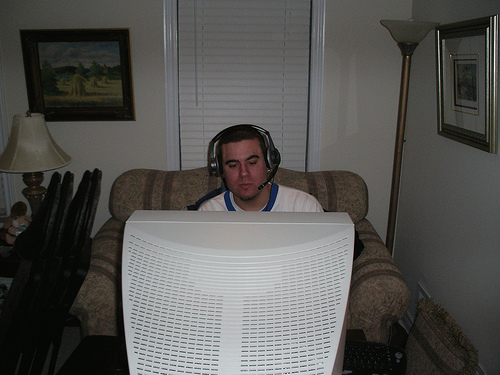without_mask: (215, 138, 275, 199)
